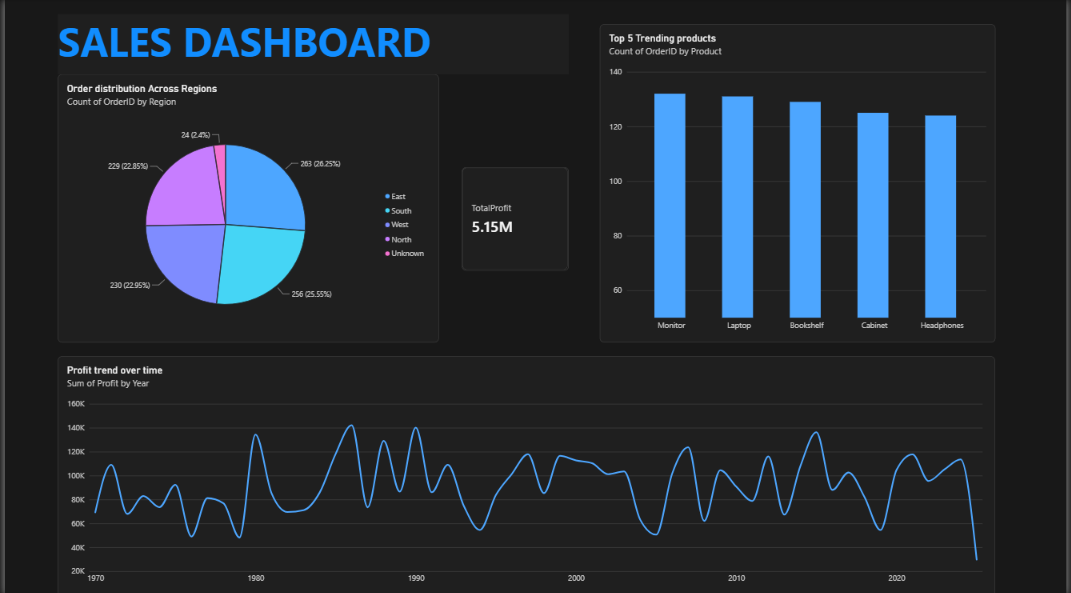

Layout of this report page (visuals, bound fields, positions):
{"tool":"powerbi","page":{"name":"Page 1","canvas":[1920,1080],"ordinal":0},"visuals":[{"type":"pieChart","title":"Order distribution Across Regions","fields":{"Category":["SalesData_1000Rows_WithIssues_copy.Region"],"Y":["CountNonNull(SalesData_1000Rows_WithIssues_copy.OrderID)"]},"box":[96.7,135.8,689.5,485.8],"z":0},{"type":"columnChart","title":"Top 5 Trending products","fields":{"Category":["SalesData_1000Rows_WithIssues_copy.Product"],"Y":["CountNonNull(SalesData_1000Rows_WithIssues_copy.OrderID)"]},"box":[1076.5,45.3,716.3,576.3],"z":1000},{"type":"lineChart","title":"Profit trend over time","fields":{"Category":["SalesData_1000Rows_WithIssues_copy.OrderDate.Variation.Date Hierarchy.Year","SalesData_1000Rows_WithIssues_copy.OrderDate.Variation.Date Hierarchy.Quarter","SalesData_1000Rows_WithIssues_copy.OrderDate.Variation.Date Hierarchy.Month","SalesData_1000Rows_WithIssues_copy.OrderDate.Variation.Date Hierarchy.Day"],"Y":["Sum(SalesData_1000Rows_WithIssues_copy.Profit)"]},"box":[96.7,646.3,1696.1,434.3],"z":2000},{"type":"cardVisual","title":"Total profit","fields":{"Data":["SalesData.TotalProfit"]},"box":[827.4,304.6,193.5,187.3],"z":2001},{"type":"textbox","box":[95.9,27.1,924.7,108.6],"z":2002}]}

Visuals, with their boxes in screenshot pixels (x1, y1, x2, y2), scaled from the page's 1920x1080 canvas onto the 1071x593 screenshot:
"Order distribution Across Regions" pieChart: [x1=54, y1=75, x2=439, y2=341]
"Top 5 Trending products" columnChart: [x1=600, y1=25, x2=1000, y2=341]
"Profit trend over time" lineChart: [x1=54, y1=355, x2=1000, y2=592]
"Total profit" cardVisual: [x1=462, y1=167, x2=569, y2=270]
textbox: [x1=53, y1=15, x2=569, y2=75]
